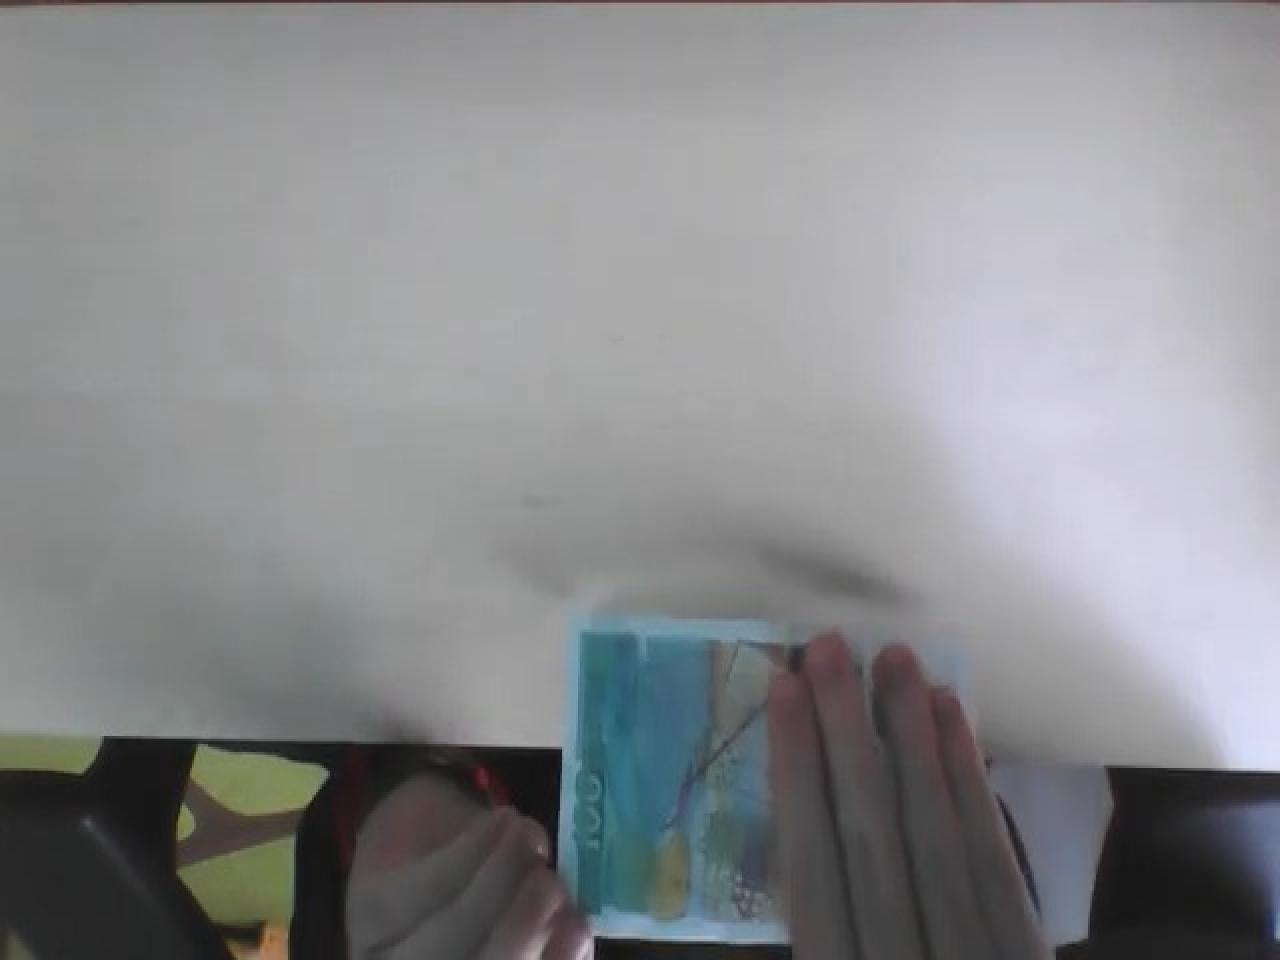100leva: (564, 621, 802, 942)
